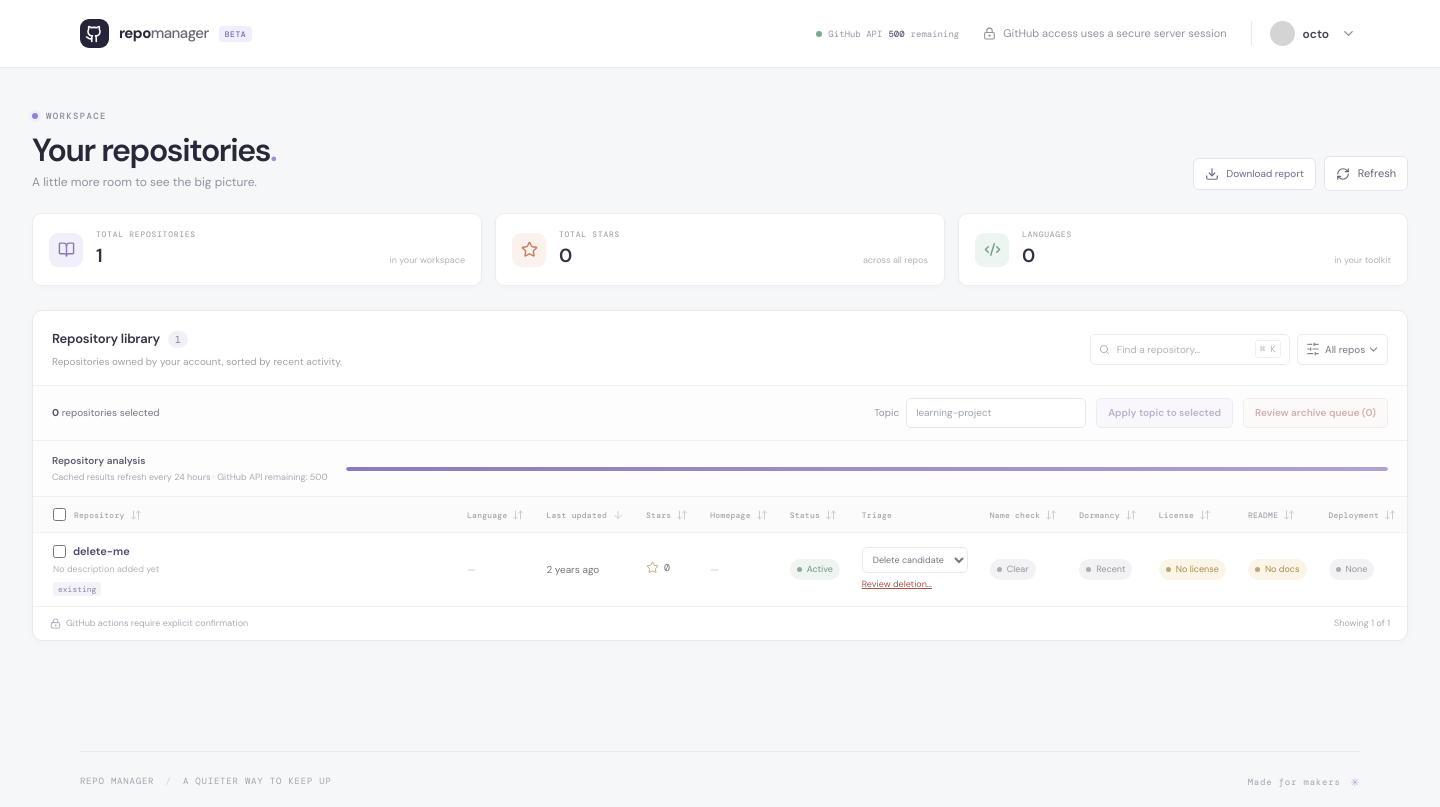
Test: repository write-action UI › requires exact per-repo name and logs successful deletions in session
Check: the heading "Repository library" is shown, box left=52, top=329, right=160, bottom=349
Click the button "Review deletion…": (897, 585) left=862, top=578, right=932, bottom=592
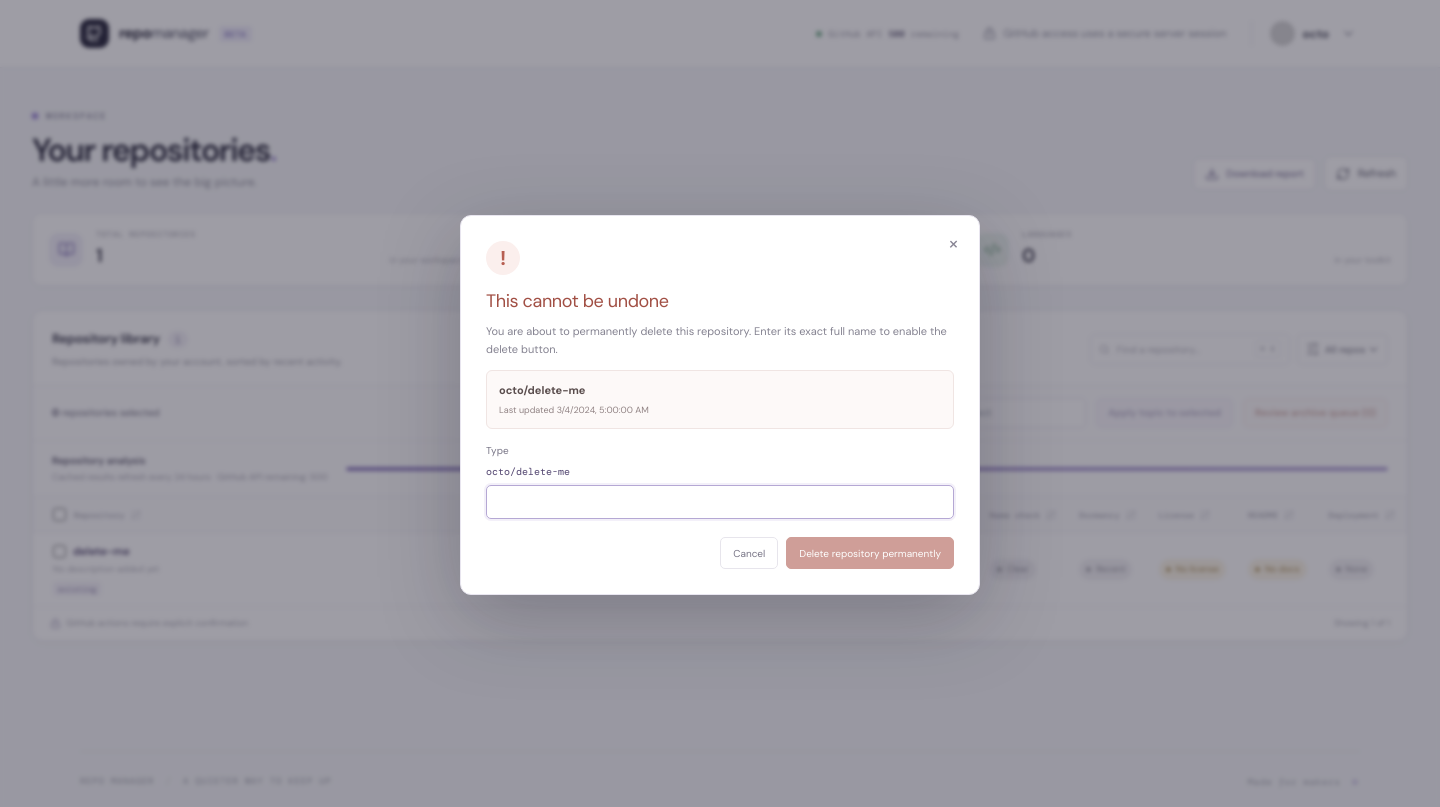
Check: the heading "This cannot be undone" is shown, box left=486, top=289, right=668, bottom=313
Check: the text "octo/delete-me" is shown 2 times, box left=499, top=383, right=586, bottom=397; left=486, top=465, right=570, bottom=478
Check: the button "Delete repository permanently" is disabled, box left=786, top=537, right=954, bottom=569
In the field labelled "Type octo/delete-me": (720, 502) left=486, top=485, right=954, bottom=519, type "delete-me"
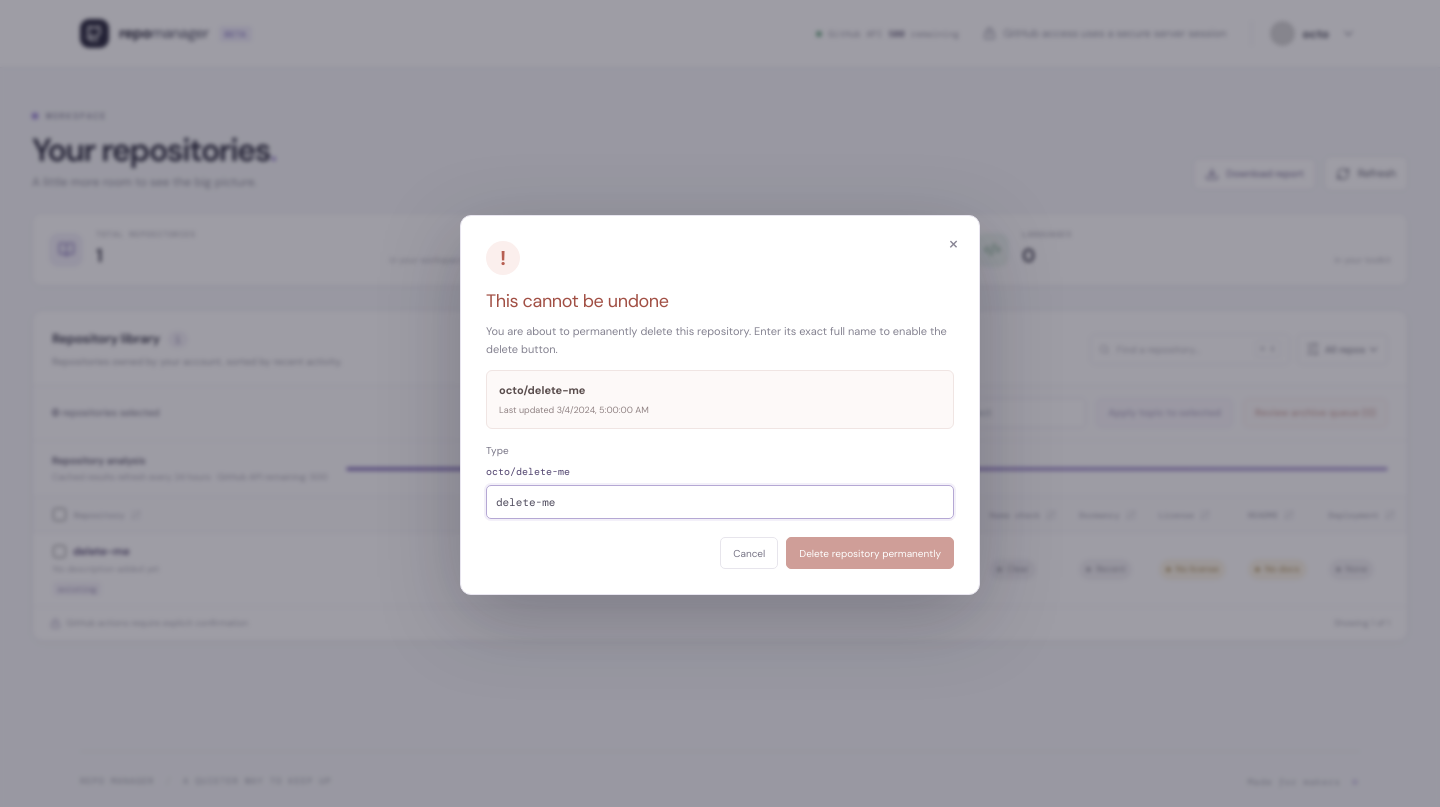
Check: the button "Delete repository permanently" is disabled, box left=786, top=537, right=954, bottom=569
Replace the text in the field labelled "Type octo/delete-me" with "octo/delete-me": (720, 502) left=486, top=485, right=954, bottom=519
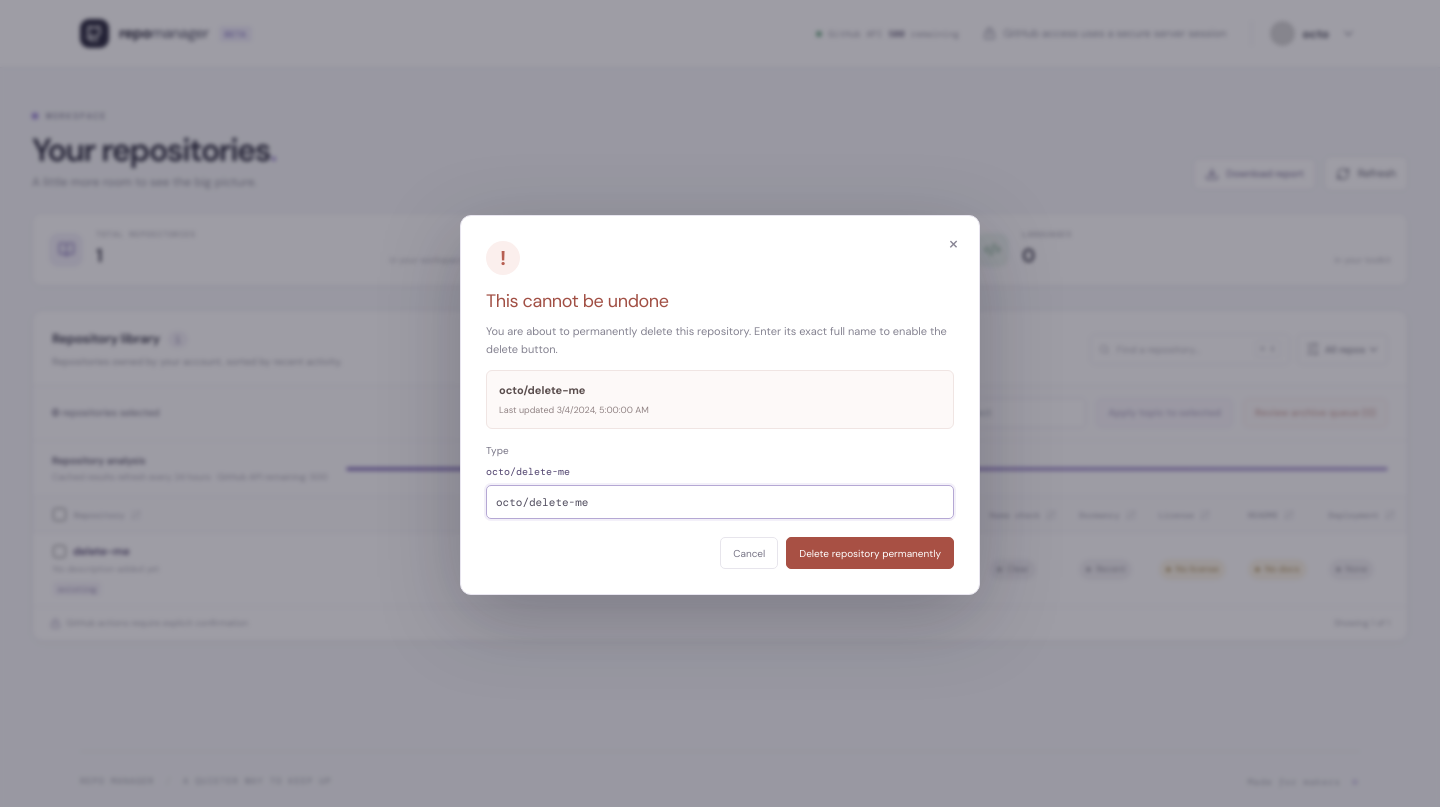
Check: the button "Delete repository permanently" is enabled
Click the button "Delete repository permanently": (870, 553) left=786, top=537, right=954, bottom=569
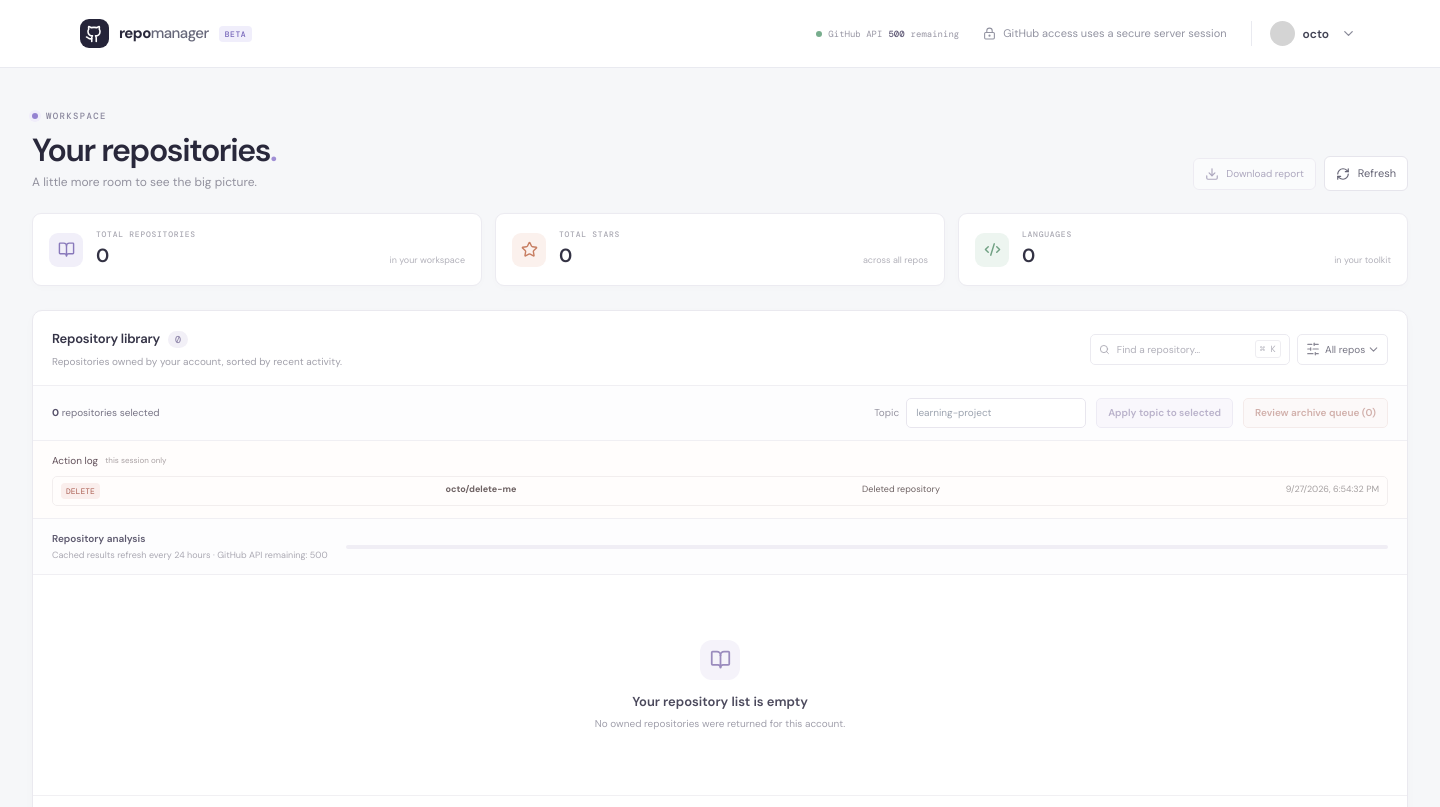
Check: the text "octo/delete-me" is shown, box left=446, top=483, right=516, bottom=499
Check: the heading "Action log this session only" is shown, box left=52, top=454, right=166, bottom=467
